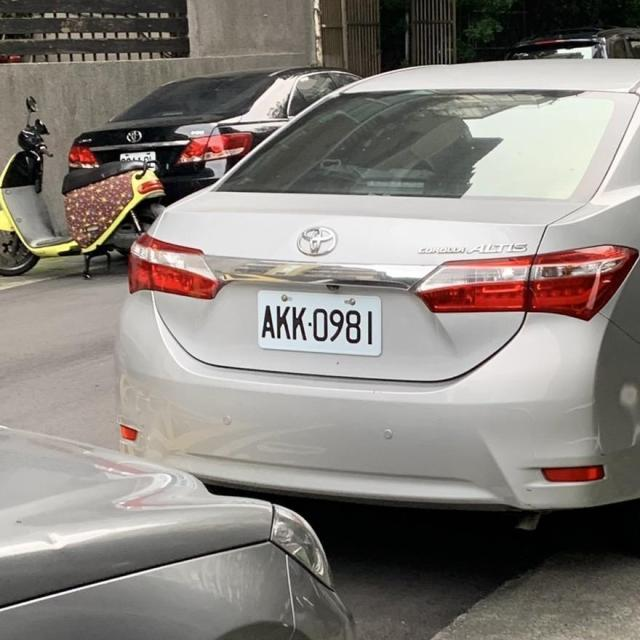W: (250, 281, 386, 361)
